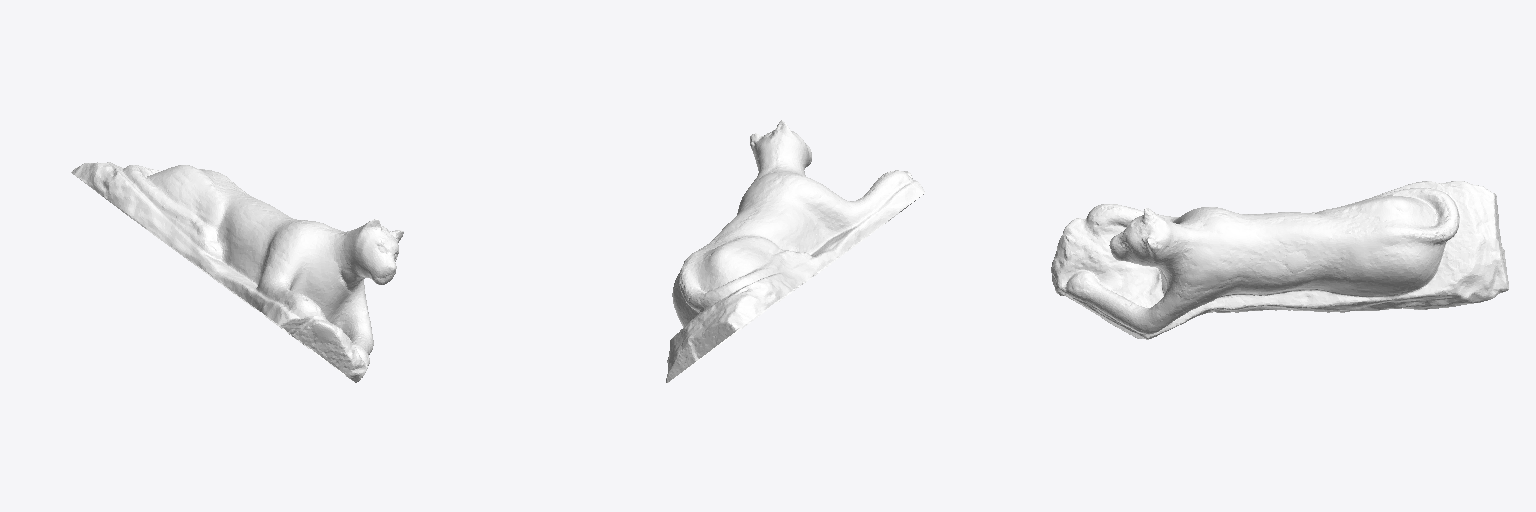
File: panther.obj
The picture shows the model from 3 angles: view 1: azimuth 30°, elevation 25°; view 2: azimuth 150°, elevation 25°; view 3: azimuth 270°, elevation 25°; orthographic projection.
Size of the model in its own units: 0.7002 by 0.5945 by 1.68.